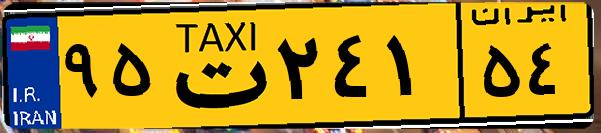1: (385, 28, 445, 110)
2: (270, 28, 330, 110)
4: (330, 28, 385, 110), (525, 38, 570, 115)
5: (475, 38, 525, 113), (110, 28, 158, 98)
9: (57, 26, 110, 100)
ت: (158, 12, 270, 120)
